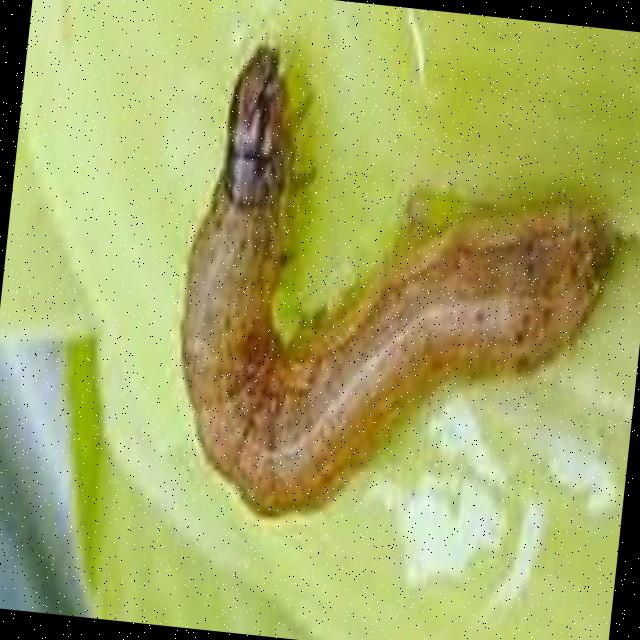worm: (158, 32, 637, 553)
